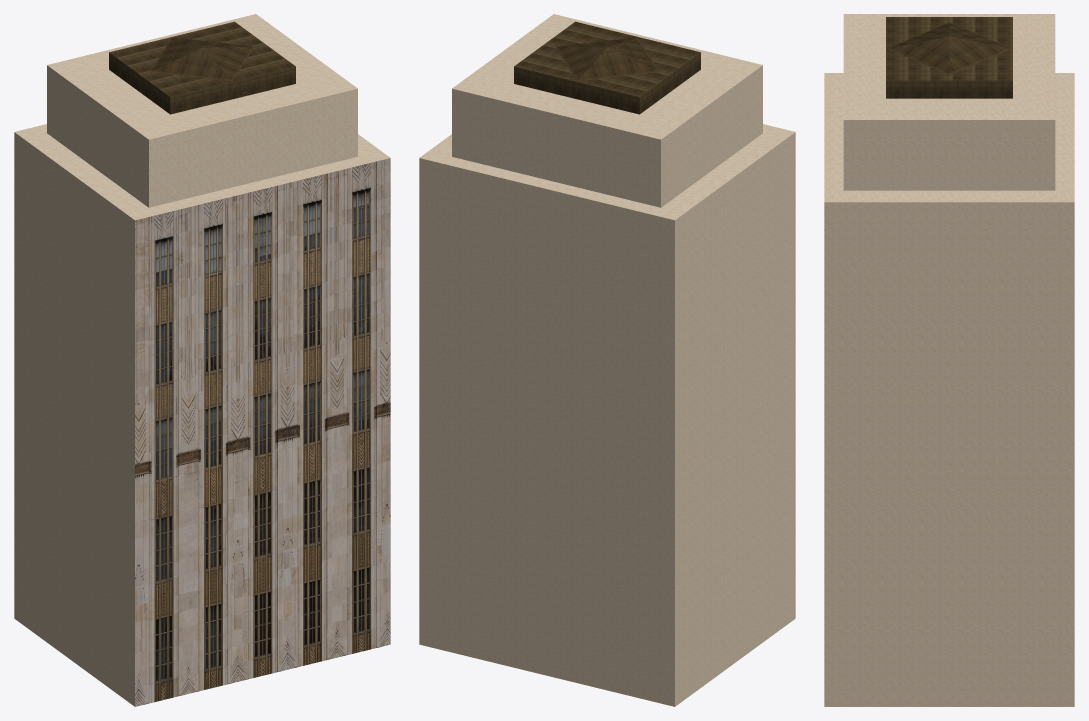
Rendered from foundry-tower_lod0.gltf.
3 views of the same model, side by side, from view 1: azimuth 30°, elevation 25°; view 2: azimuth 150°, elevation 25°; view 3: azimuth 270°, elevation 25° (orthographic). The views are drawn at different scales.
Parts seen in each view (by area): view 1: foundry-tower_front, foundry-tower_tier0, foundry-tower_tier1, foundry-tower_crown; view 2: foundry-tower_tier0, foundry-tower_tier1, foundry-tower_crown; view 3: foundry-tower_tier0, foundry-tower_tier1, foundry-tower_crown.
Part boxes in pixels (box(x1,y1,x2,y2)): foundry-tower_front: box(135, 158, 390, 706); foundry-tower_tier0: box(14, 124, 390, 706); foundry-tower_tier1: box(47, 14, 357, 207); foundry-tower_crown: box(109, 21, 295, 114); foundry-tower_tier0: box(419, 124, 795, 706); foundry-tower_tier1: box(452, 14, 762, 207); foundry-tower_crown: box(514, 21, 700, 114); foundry-tower_tier0: box(824, 73, 1074, 706); foundry-tower_tier1: box(843, 14, 1055, 190); foundry-tower_crown: box(886, 17, 1012, 98).
Size of the model in its own units: 55 by 120 by 45.
